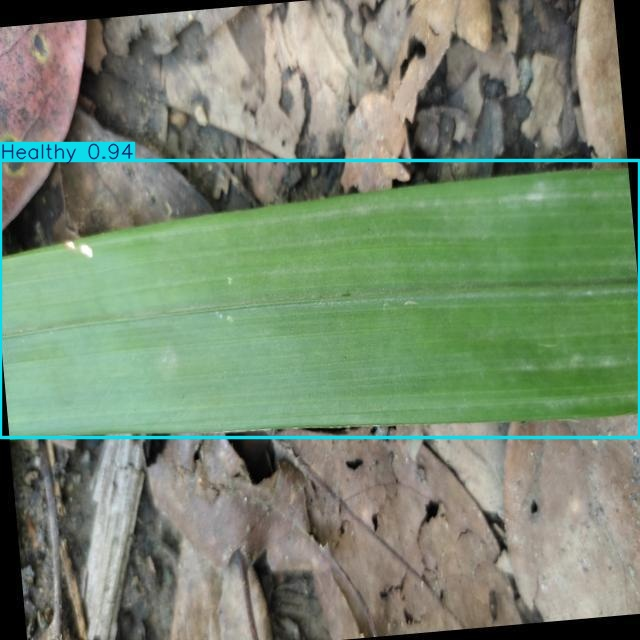Healthy: (0, 161, 640, 437)
